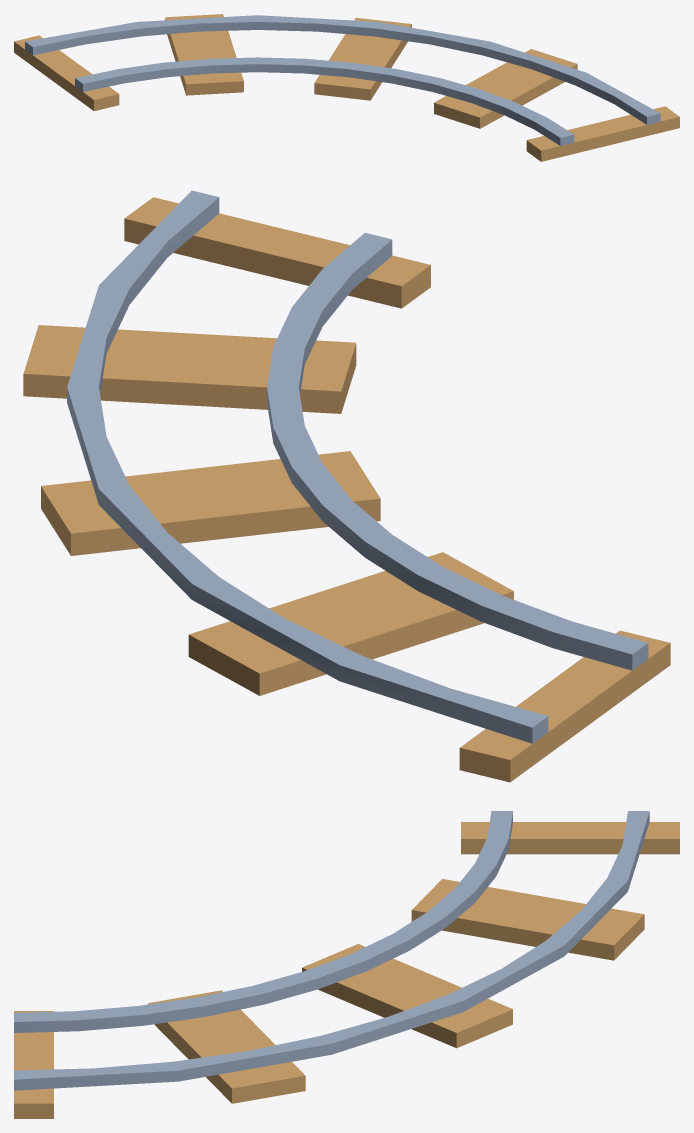
The model's file is trackCornerLarge.fbx.
3 views of the same model, one above another, from view 1: azimuth 30°, elevation 25°; view 2: azimuth 150°, elevation 25°; view 3: azimuth 270°, elevation 25° (orthographic). The views are drawn at different scales.
Visible parts, largest first — view 1: trackCornerLarge; view 2: trackCornerLarge; view 3: trackCornerLarge.
Boxes of the visible parts, <box> form: trackCornerLarge: <box>14,14,679,161</box>; trackCornerLarge: <box>23,190,670,782</box>; trackCornerLarge: <box>14,811,679,1118</box>.
Bounding box in the file's own units: 5.53 × 0.241 × 5.53.
